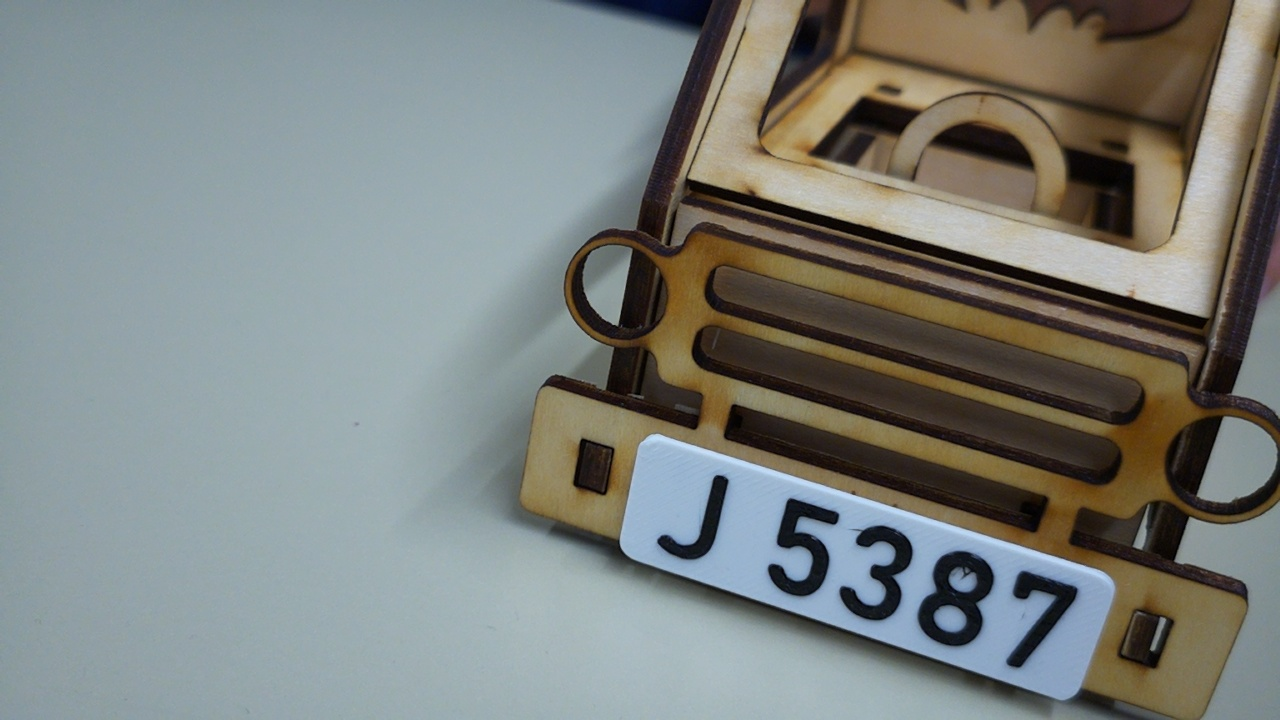license_plate: (615, 428, 1122, 705)
